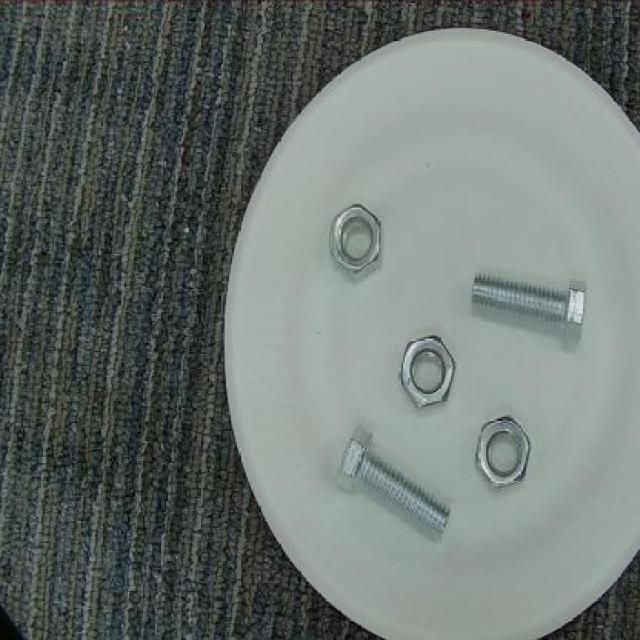Bolt: (330, 426, 456, 539), (465, 265, 588, 346)
Nut: (327, 198, 386, 278), (398, 329, 457, 409), (476, 414, 532, 489)
